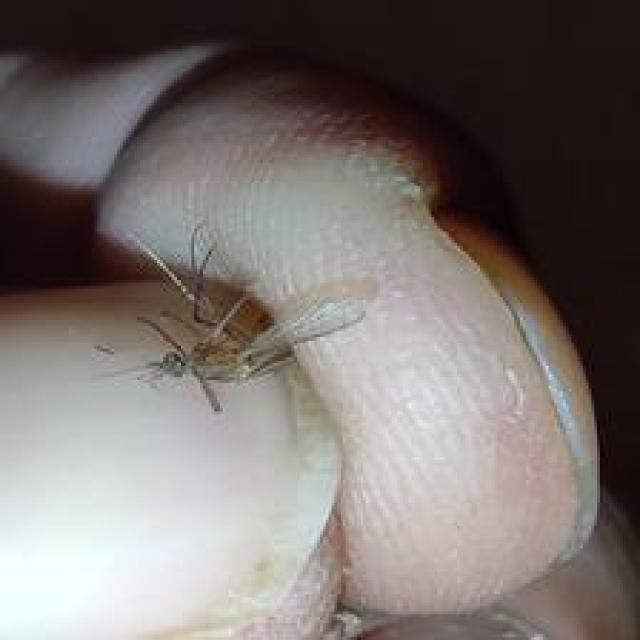Culex: (90, 223, 367, 414)
